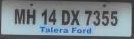character: (14, 7, 25, 25), (60, 8, 70, 26), (25, 8, 35, 25), (47, 8, 57, 25), (70, 8, 79, 26), (91, 9, 100, 26), (109, 9, 117, 26), (83, 10, 92, 25), (101, 10, 109, 26), (40, 8, 47, 26)
